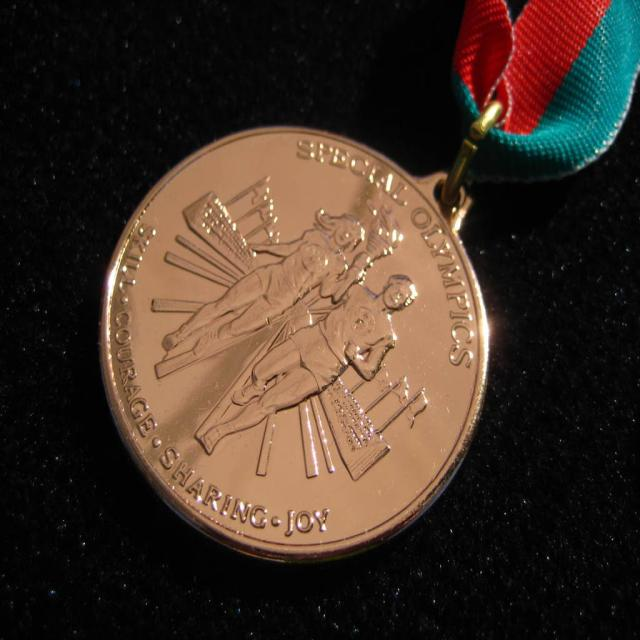Coin: (104, 126, 481, 556)
